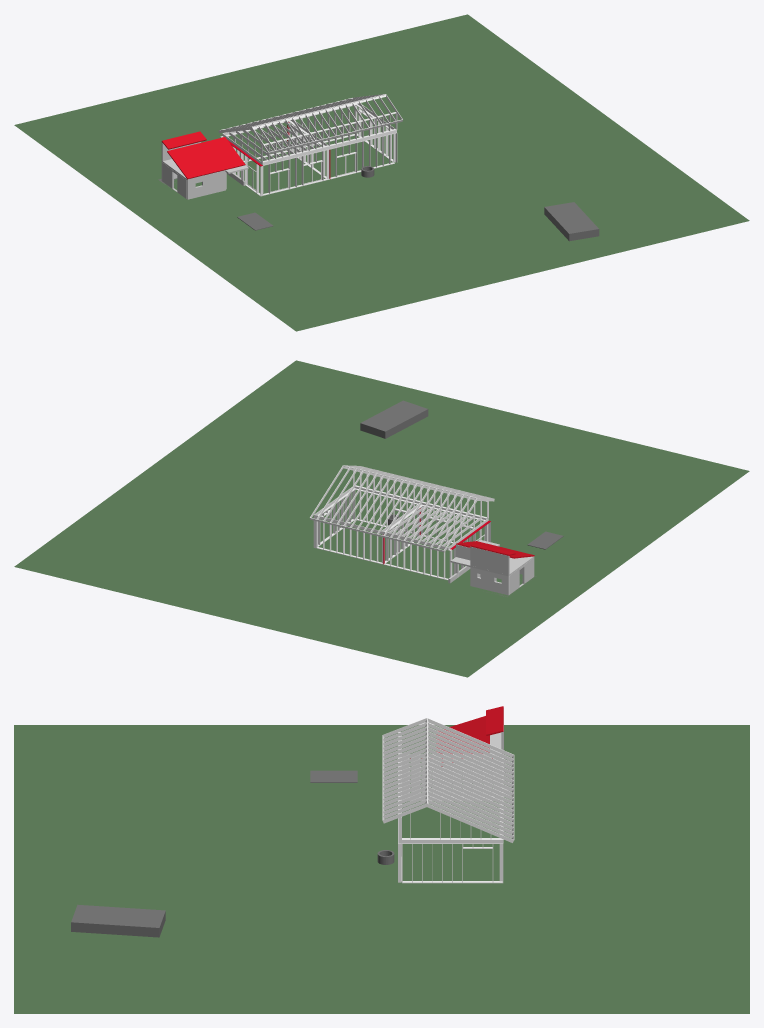
File: magazzino_e_casa.glb
3 views of the same model, one above another, from view 1: azimuth 30°, elevation 25°; view 2: azimuth 150°, elevation 25°; view 3: azimuth 270°, elevation 25° (orthographic). The views are drawn at different scales.
Parts seen in each view (by area): view 1: Plane, Cube.015, Große Zisterne, Cube.033; view 2: Plane, Große Zisterne, Cube.016, Cube.032, Cube.014; view 3: Plane, Große Zisterne, Cube.015, Kleine Zisterne, Stiel_0.012.
Boxes of the visible parts, bbox=[...] form: Plane: bbox=[14, 14, 749, 331]; Cube.015: bbox=[167, 137, 245, 179]; Große Zisterne: bbox=[544, 202, 599, 241]; Cube.033: bbox=[186, 171, 225, 199]; Plane: bbox=[14, 360, 749, 677]; Große Zisterne: bbox=[360, 400, 428, 438]; Cube.016: bbox=[470, 546, 509, 574]; Cube.032: bbox=[470, 567, 509, 595]; Cube.014: bbox=[450, 539, 534, 576]; Plane: bbox=[14, 725, 749, 1013]; Große Zisterne: bbox=[71, 904, 165, 937]; Cube.015: bbox=[436, 716, 489, 766]; Kleine Zisterne: bbox=[310, 770, 357, 782]; Stiel_0.012: bbox=[399, 839, 502, 843].
Size of what is drawn, in the model's own units: 65 by 13.03 by 70.
